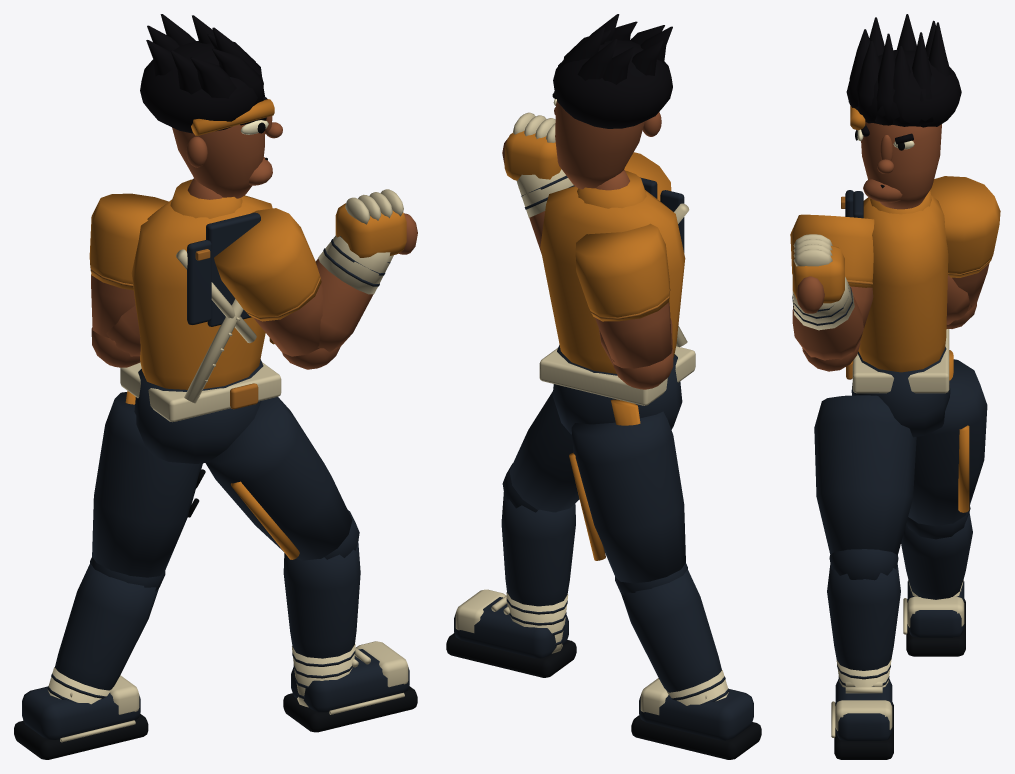
Rendered from shan-rig-v3.glb.
The picture shows the model from 3 angles, left to right: view 1: azimuth 30°, elevation 25°; view 2: azimuth 150°, elevation 25°; view 3: azimuth 270°, elevation 25°; orthographic projection. The views are drawn at different scales.
Visible parts, largest first — view 1: shan__torso_surface, shan__head_surface, shan__thighF_surface, shan__thighB_surface, shan__upperArmF_surface, shan__shinB_surface, shan__shinF_surface, shan__upperArmB_surface, shan__footF_surface, shan__footB_surface, shan__pelvis_surface, shan__forearmF_surface (+2 smaller); view 2: shan__torso_surface, shan__thighB_surface, shan__head_surface, shan__upperArmB_surface, shan__shinB_surface, shan__shinF_surface, shan__footF_surface, shan__footB_surface, shan__thighF_surface, shan__pelvis_surface, shan__handF_surface, shan__forearmF_surface (+2 smaller); view 3: shan__torso_surface, shan__thighF_surface, shan__head_surface, shan__thighB_surface, shan__shinF_surface, shan__upperArmB_surface, shan__footF_surface, shan__upperArmF_surface, shan__shinB_surface, shan__footB_surface, shan__forearmF_surface, shan__handF_surface (+2 smaller).
Part boxes in pixels (box(x1,y1,x2,y2)): shan__torso_surface: box(120, 179, 281, 421); shan__head_surface: box(140, 14, 282, 199); shan__thighF_surface: box(205, 397, 359, 560); shan__thighB_surface: box(90, 392, 205, 591); shan__upperArmF_surface: box(214, 208, 340, 369); shan__shinB_surface: box(47, 563, 158, 704); shan__shinF_surface: box(283, 541, 360, 707); shan__upperArmB_surface: box(89, 193, 168, 367); shan__footF_surface: box(283, 641, 417, 732); shan__footB_surface: box(14, 675, 148, 759); shan__pelvis_surface: box(134, 359, 263, 463); shan__forearmF_surface: box(315, 235, 393, 352); shan__torso_surface: box(539, 170, 695, 405); shan__thighB_surface: box(569, 411, 687, 595); shan__head_surface: box(552, 14, 672, 190); shan__upperArmB_surface: box(575, 223, 673, 389); shan__shinB_surface: box(621, 569, 729, 705); shan__shinF_surface: box(501, 492, 575, 653); shan__footF_surface: box(446, 589, 576, 677); shan__footB_surface: box(631, 678, 761, 759); shan__thighF_surface: box(502, 391, 579, 512); shan__pelvis_surface: box(552, 345, 682, 434); shan__handF_surface: box(502, 112, 561, 180); shan__forearmF_surface: box(516, 169, 574, 253); shan__torso_surface: box(841, 190, 949, 393); shan__thighF_surface: box(814, 395, 916, 580); shan__head_surface: box(846, 14, 961, 209); shan__thighB_surface: box(906, 359, 987, 539); shan__shinF_surface: box(827, 564, 900, 687); shan__upperArmB_surface: box(930, 176, 1000, 328); shan__footF_surface: box(831, 678, 893, 759); shan__upperArmF_surface: box(790, 214, 874, 371); shan__shinB_surface: box(901, 513, 972, 599); shan__footB_surface: box(903, 580, 965, 656); shan__forearmF_surface: box(792, 277, 863, 360); shan__handF_surface: box(792, 234, 844, 313).
Bounding box in the file's own units: 1.75 × 3.48 × 1.02.
